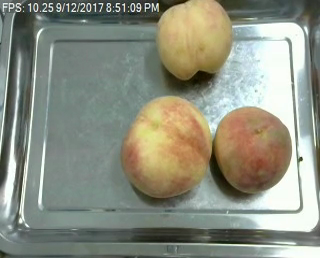Peach: (121, 95, 211, 198), (212, 105, 292, 193), (156, 0, 234, 80)
